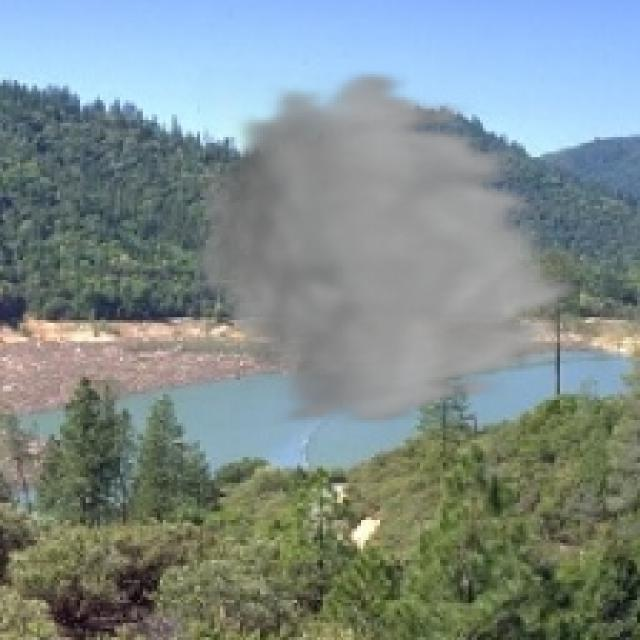Smoke: (186, 66, 594, 428)
